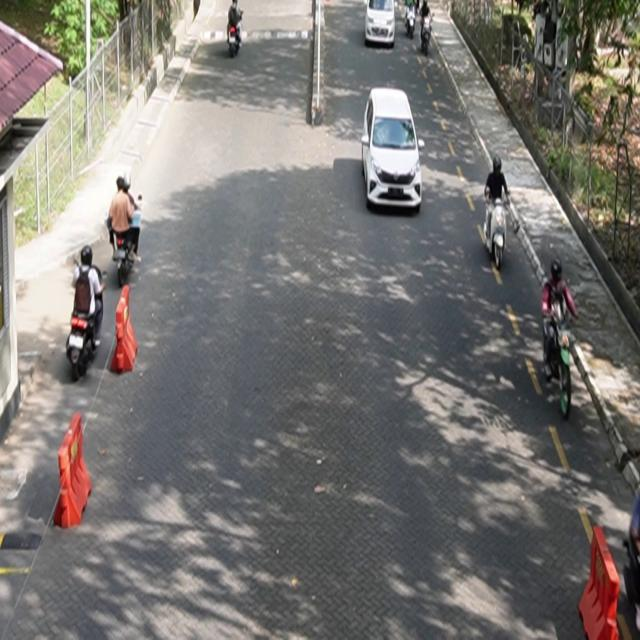car: (362, 87, 424, 213), (365, 1, 396, 48)
